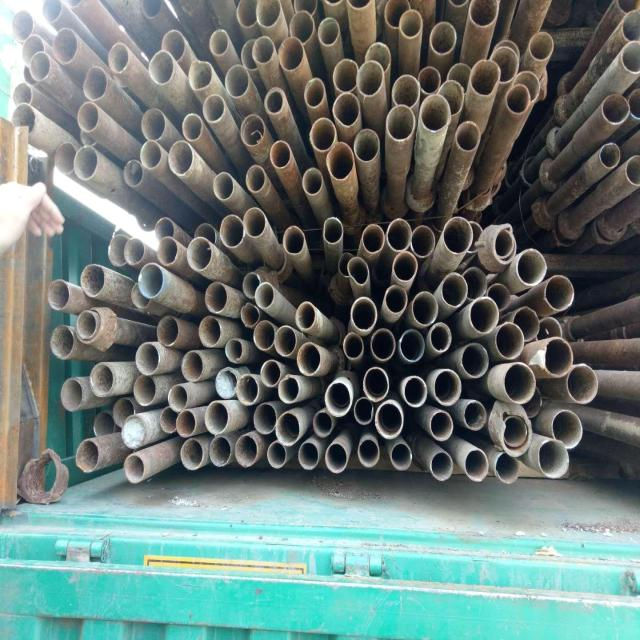pipe: (499, 410, 533, 458), (565, 362, 601, 406), (502, 361, 538, 405), (551, 406, 585, 451), (441, 213, 475, 256), (536, 437, 570, 479), (542, 336, 576, 378), (543, 271, 577, 313), (418, 92, 452, 134), (469, 57, 504, 97), (516, 246, 550, 286), (468, 293, 500, 335), (324, 140, 356, 182), (486, 46, 520, 84), (432, 365, 464, 405), (386, 102, 418, 142), (489, 222, 519, 264), (374, 398, 404, 440), (494, 319, 526, 358), (460, 340, 490, 381), (355, 59, 387, 97), (441, 269, 471, 309), (350, 294, 380, 334), (324, 378, 354, 418), (390, 73, 422, 109), (438, 78, 466, 119), (512, 304, 542, 342), (411, 288, 441, 326), (362, 364, 392, 402), (148, 47, 178, 85), (353, 125, 382, 164), (386, 214, 414, 254), (52, 25, 80, 65), (332, 91, 362, 128), (602, 91, 632, 127), (492, 450, 522, 486), (308, 116, 338, 152), (331, 56, 361, 92), (363, 40, 393, 76), (429, 20, 459, 56), (511, 70, 541, 106), (275, 410, 303, 448), (186, 233, 214, 271), (134, 338, 162, 376), (138, 260, 166, 298), (78, 259, 106, 297), (48, 322, 76, 360), (168, 139, 196, 177), (120, 412, 148, 449), (462, 264, 489, 302), (73, 143, 100, 181), (290, 8, 317, 46), (204, 398, 230, 437), (370, 325, 398, 361), (89, 361, 117, 397), (10, 100, 38, 136), (140, 106, 168, 142), (160, 28, 188, 64), (296, 340, 322, 378), (234, 431, 260, 469), (75, 434, 101, 472), (280, 34, 306, 72), (398, 327, 426, 362), (240, 111, 268, 146), (463, 447, 490, 483), (535, 312, 565, 344), (428, 408, 456, 442), (82, 66, 110, 100), (460, 220, 486, 256), (412, 223, 438, 259), (362, 220, 388, 256), (346, 252, 372, 288), (324, 440, 350, 476), (219, 212, 245, 248), (214, 365, 240, 401), (59, 376, 85, 412), (468, 0, 501, 28), (454, 119, 482, 152), (180, 434, 204, 472), (180, 348, 206, 383), (132, 372, 158, 407), (21, 31, 47, 66), (384, 0, 413, 31), (503, 84, 532, 115), (392, 250, 420, 282), (447, 62, 475, 94), (528, 29, 556, 61), (462, 398, 488, 432), (428, 320, 454, 354), (401, 374, 427, 408), (388, 438, 414, 472), (156, 313, 182, 347), (52, 140, 78, 174), (105, 41, 131, 75), (188, 58, 214, 92), (225, 64, 251, 98), (358, 433, 383, 468), (107, 230, 130, 268), (254, 398, 278, 434), (208, 432, 232, 468), (398, 7, 425, 39), (242, 205, 268, 238), (196, 315, 222, 348), (122, 451, 148, 484), (91, 408, 117, 441), (384, 282, 409, 316), (10, 9, 35, 43), (47, 278, 73, 310), (76, 100, 102, 132), (138, 138, 164, 170), (202, 92, 228, 124), (204, 280, 229, 313), (431, 448, 455, 482), (298, 438, 322, 472), (274, 323, 298, 357), (236, 372, 260, 406), (155, 234, 179, 268), (112, 395, 136, 429), (255, 0, 282, 30), (252, 34, 277, 66), (317, 15, 342, 47), (352, 395, 376, 428), (322, 214, 346, 247), (282, 223, 306, 256), (294, 299, 318, 332), (29, 49, 53, 82), (620, 6, 640, 45), (620, 37, 640, 76), (206, 27, 232, 57), (235, 0, 261, 30), (492, 38, 522, 64), (263, 85, 288, 116), (522, 383, 544, 418), (252, 319, 276, 351), (180, 111, 204, 143), (212, 169, 236, 201), (304, 76, 328, 108), (175, 406, 198, 439), (240, 37, 261, 73), (598, 140, 623, 170), (269, 138, 293, 169), (418, 64, 442, 95), (253, 278, 276, 310), (245, 162, 268, 194), (302, 164, 325, 196), (77, 308, 99, 341), (122, 236, 146, 266), (120, 157, 144, 187), (342, 329, 364, 361), (278, 372, 300, 404), (487, 284, 512, 312), (266, 438, 288, 469), (260, 357, 282, 388), (153, 214, 179, 240), (167, 383, 191, 411), (194, 220, 218, 248), (312, 408, 334, 438), (130, 280, 152, 310), (240, 298, 261, 329), (12, 81, 34, 109), (242, 270, 262, 300), (224, 334, 244, 364), (158, 403, 178, 433), (624, 152, 640, 187), (338, 250, 357, 279), (42, 0, 64, 24), (627, 85, 640, 121), (293, 0, 319, 18), (140, 1, 164, 20), (347, 0, 375, 14), (616, 0, 640, 16), (21, 62, 37, 86)
